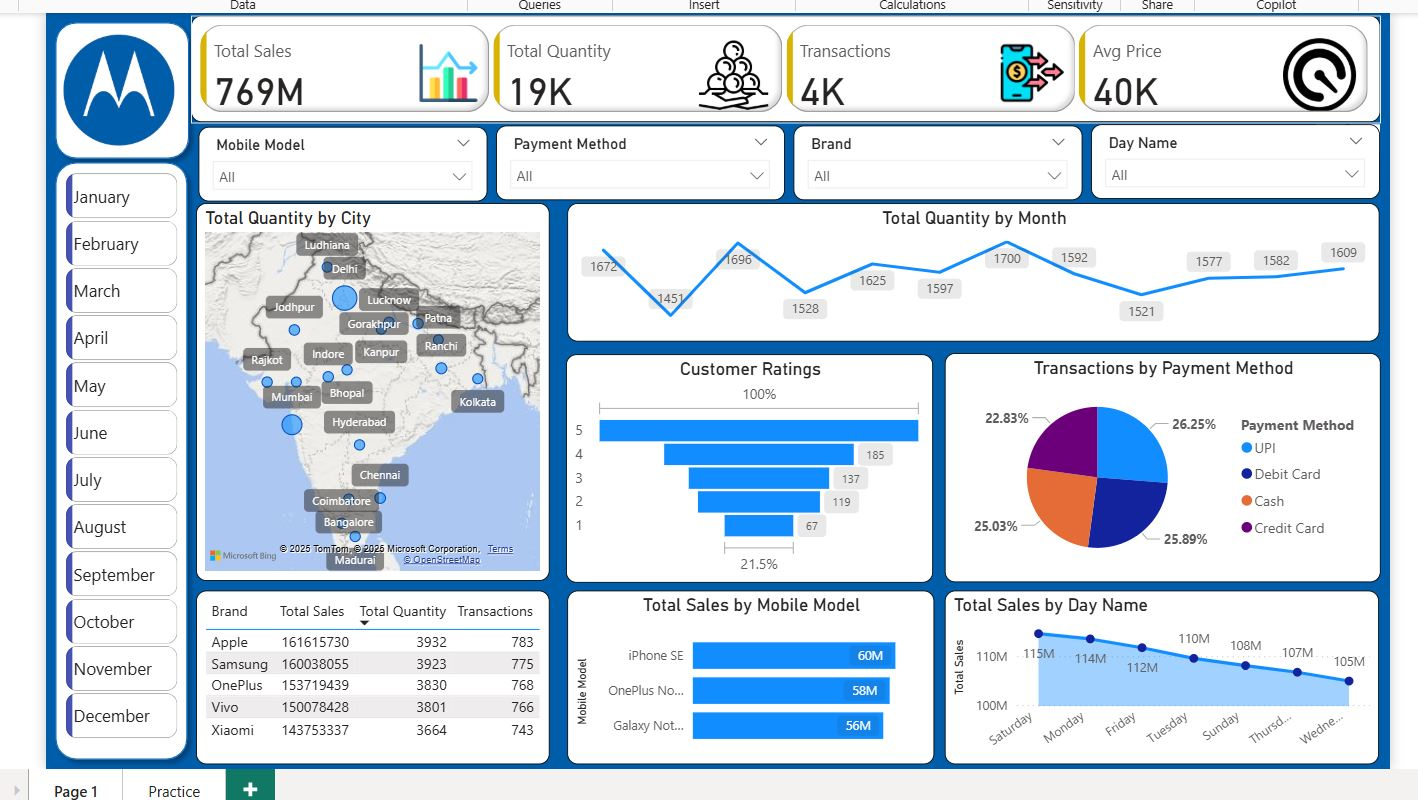

The dashboard page shown, as its layout file describes it:
{"tool":"powerbi","page":{"name":"Page 1","canvas":[1280,720],"ordinal":0},"visuals":[{"type":"shape","box":[0,0,145.2,147.6],"z":0},{"type":"image","box":[11.9,14.3,115.5,117.9],"z":1000},{"type":"shape","box":[0,133.8,143.6,586.6],"z":2000},{"type":"advancedSlicerVisual","fields":{"Values":["Sales_Data.Custom.Variation.Date Hierarchy.Month"]},"box":[14,147.3,116.6,551],"z":3000},{"type":"cardVisual","fields":{"Data":["Sales_Data.Total Sales","Sales_Data.Total Quantity","Sales_Data.Transactions","Sales_Data.Avg Price"]},"box":[138.7,2.5,1132.7,101.9],"z":4000},{"type":"map","fields":{"Category":["Sales_Data.City"],"Size":["Sales_Data.Total Quantity"]},"box":[143.4,181.4,336.5,359.9],"z":5000},{"type":"lineChart","fields":{"Y":["Sales_Data.Total Quantity"],"Category":["Sales_Data.Custom.Variation.Date Hierarchy.Month","Sales_Data.Custom.Variation.Date Hierarchy.Day"]},"box":[495.9,181.4,773.9,131.7],"z":6000},{"type":"clusteredBarChart","fields":{"Category":["Sales_Data.Mobile Model"],"Y":["Sales_Data.Total Sales"]},"box":[495.9,550,349.6,165.3],"z":7000},{"type":"pieChart","fields":{"Category":["Sales_Data.Payment Method"],"Y":["Sales_Data.Transactions"]},"box":[855.4,323.6,415,218.1],"z":8000},{"type":"funnel","title":"Customer Ratings","fields":{"Y":["CountNonNull(Sales_Data.Customer Ratings)"],"Category":["Sales_Data.Customer Ratings"]},"box":[495.8,325.2,349.8,217.2],"z":9000},{"type":"areaChart","fields":{"Category":["Sales_Data.Day Name"],"Y":["Sales_Data.Total Sales"]},"box":[855.8,550,414,165.3],"z":10000},{"type":"tableEx","fields":{"Values":["Sales_Data.Brand","Sales_Data.Total Sales","Sales_Data.Total Quantity","Sales_Data.Transactions"]},"box":[143.4,550,336.5,165.3],"z":11000},{"type":"slicer","fields":{"Values":["Sales_Data.Mobile Model"]},"box":[144.8,108,274.9,71.2],"z":12000},{"type":"slicer","fields":{"Values":["Sales_Data.Payment Method"]},"box":[428.3,106.8,274.9,71.2],"z":13000},{"type":"slicer","fields":{"Values":["Sales_Data.Brand"]},"box":[711.8,106.8,274.9,71.2],"z":14000},{"type":"slicer","fields":{"Values":["Sales_Data.Day Name"]},"box":[995.3,105.5,274.9,71.2],"z":15000}]}

Visuals, with their boxes in screenshot pixels (x1, y1, x2, y2):
shape: select_region(41, 7, 194, 163)
image: select_region(53, 22, 175, 147)
shape: select_region(41, 148, 192, 767)
advancedSlicerVisual - Sales_Data.Custom.Variation.Date Hierarchy.Month: select_region(55, 163, 178, 743)
cardVisual - Sales_Data.Total Sales x Sales_Data.Total Quantity: select_region(187, 10, 1380, 117)
map - Sales_Data.City x Sales_Data.Total Quantity: select_region(192, 199, 546, 578)
lineChart - Sales_Data.Total Quantity x Sales_Data.Custom.Variation.Date Hierarchy.Month: select_region(563, 199, 1379, 337)
clusteredBarChart - Sales_Data.Mobile Model x Sales_Data.Total Sales: select_region(563, 587, 932, 761)
pieChart - Sales_Data.Payment Method x Sales_Data.Transactions: select_region(942, 348, 1379, 578)
"Customer Ratings" funnel: select_region(563, 350, 932, 579)
areaChart - Sales_Data.Day Name x Sales_Data.Total Sales: select_region(942, 587, 1379, 761)
tableEx - Sales_Data.Brand x Sales_Data.Total Sales: select_region(192, 587, 546, 761)
slicer - Sales_Data.Mobile Model: select_region(193, 121, 483, 196)
slicer - Sales_Data.Payment Method: select_region(492, 120, 782, 195)
slicer - Sales_Data.Brand: select_region(791, 120, 1080, 195)
slicer - Sales_Data.Day Name: select_region(1089, 119, 1379, 194)
